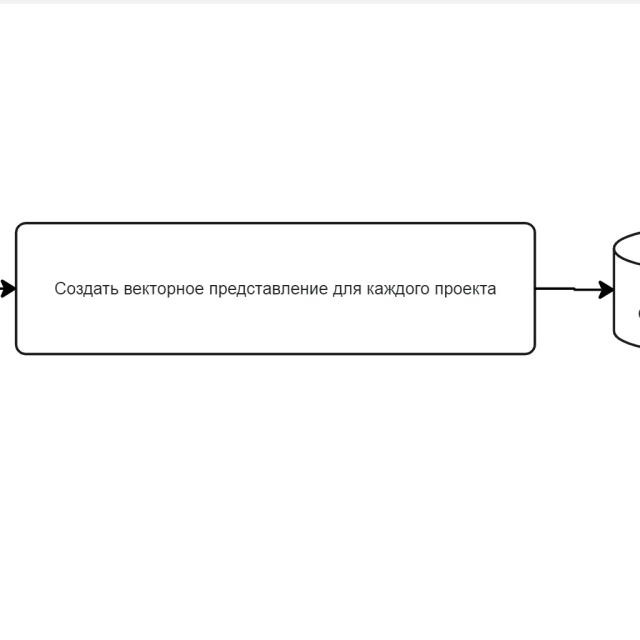arrow: (535, 276, 613, 301)
rectangle: (15, 220, 537, 356)
